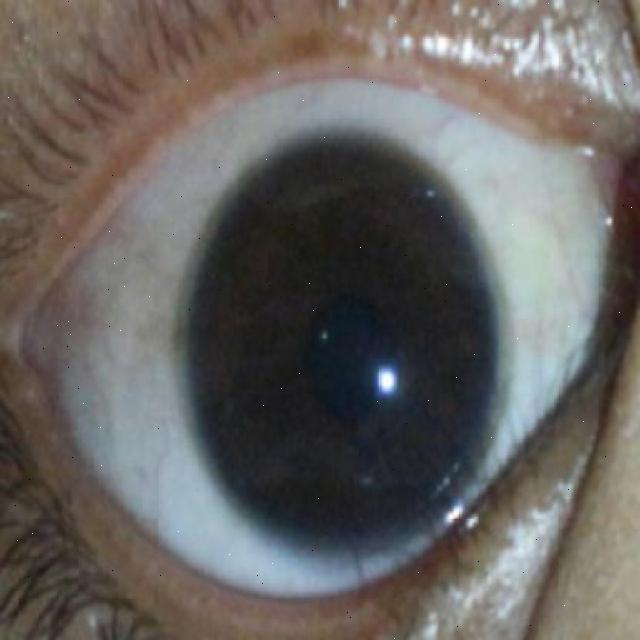Normal: (178, 138, 509, 559)
